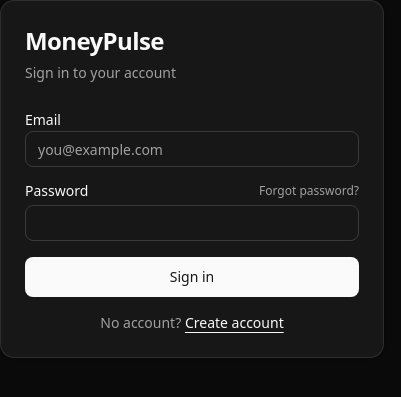
LoginForm › shows validation error when password is empty
In the field labelled "Email": (192, 149) [25, 131, 359, 167], type "user@example.com"
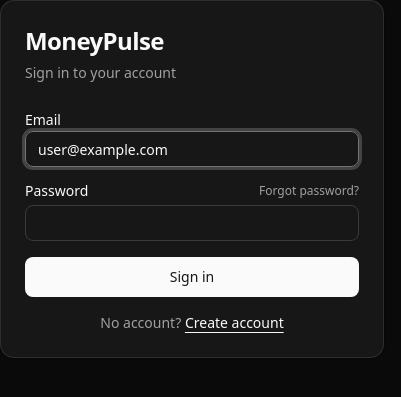
Click the button "Sign in": (192, 277) [25, 257, 359, 297]
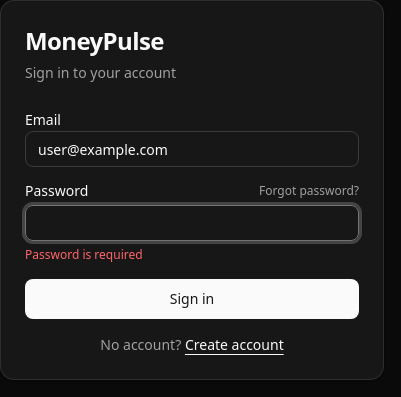
Now the text "Password is required" is shown, box [25, 246, 143, 263]
